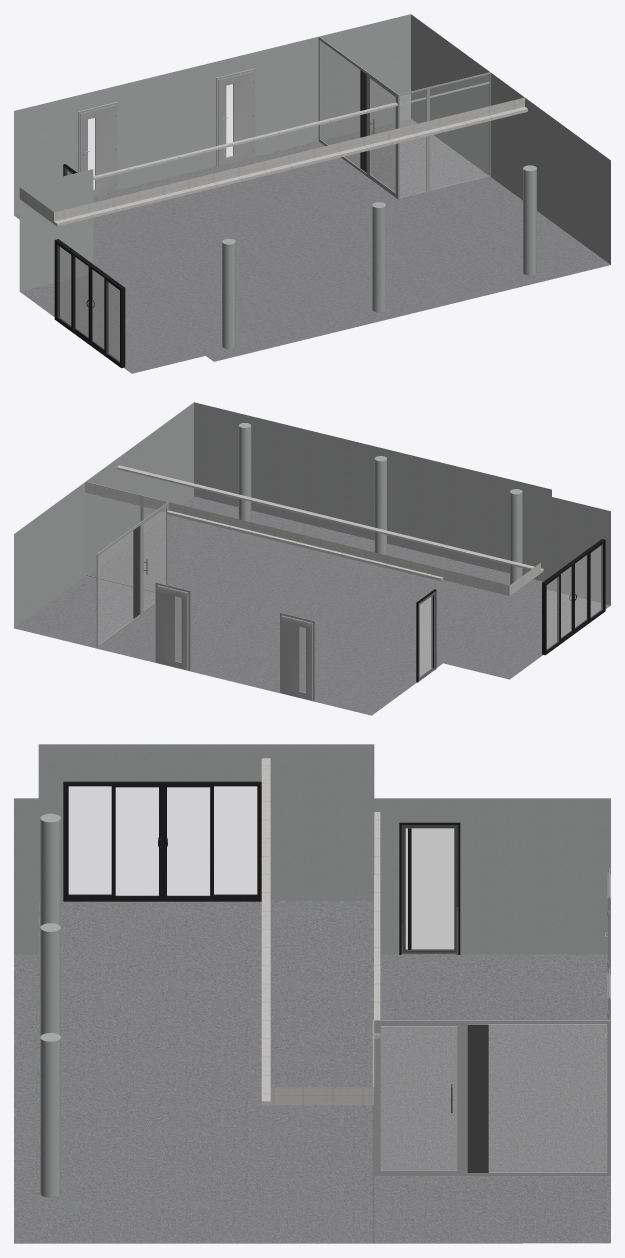
Rendered from commercial-office-space-retrofit.glb.
The picture shows the model from 3 angles, top to bottom: view 1: azimuth 30°, elevation 25°; view 2: azimuth 150°, elevation 25°; view 3: azimuth 270°, elevation 25°; orthographic projection. The views are drawn at different scales.
Parts seen in each view (by area): view 1: floor, back_wall, left_wall, glass-cabin, ceiling, right_wall, dvere.001, dvere, Cylinder.002, Cylinder.001, Cylinder, Frame (+7 smaller); view 2: floor, front_wall, left_wall, glass-cabin, ceiling, dvere, dvere.001, Cylinder.002, window, Cylinder.001, Frame, Cylinder (+7 smaller); view 3: floor, right_wall, glass-cabin, ceiling, window, window1, window4, window3, window2, front_wall, Cylinder.002, Door morden (+5 smaller).
Part boxes in pixels (x1,y1,x2,y2): floor: (14, 118, 610, 373); back_wall: (14, 14, 410, 215); left_wall: (411, 14, 610, 264); glass-cabin: (318, 36, 490, 199); ceiling: (19, 81, 527, 226); right_wall: (19, 169, 93, 291); dvere.001: (218, 71, 254, 166); dvere: (80, 105, 116, 196); Cylinder.002: (523, 165, 536, 275); Cylinder.001: (372, 202, 385, 312); Cylinder: (222, 238, 235, 348); Frame: (54, 239, 125, 368); floor: (14, 496, 610, 715); front_wall: (194, 402, 610, 605); left_wall: (14, 402, 193, 627); glass-cabin: (85, 481, 169, 648); ceiling: (85, 465, 543, 595); dvere: (282, 617, 311, 700); dvere.001: (157, 586, 186, 669); Cylinder.002: (238, 423, 251, 521); window: (419, 592, 435, 680); Cylinder.001: (374, 456, 386, 554); Frame: (542, 539, 605, 655); Cylinder: (510, 489, 522, 584); floor: (14, 900, 610, 1243); right_wall: (38, 744, 610, 954); glass-cabin: (372, 1020, 610, 1243); ceiling: (261, 758, 380, 1105); window: (402, 825, 457, 953); window1: (69, 786, 111, 894); window4: (214, 786, 256, 894); window3: (167, 787, 209, 895); window2: (116, 787, 158, 895); front_wall: (14, 798, 38, 954); Cylinder.002: (40, 1033, 60, 1197); Door morden: (399, 822, 460, 954).
Bounding box in the file's own units: 17.76 × 3.75 × 13.
15 materials, 5 textured.
